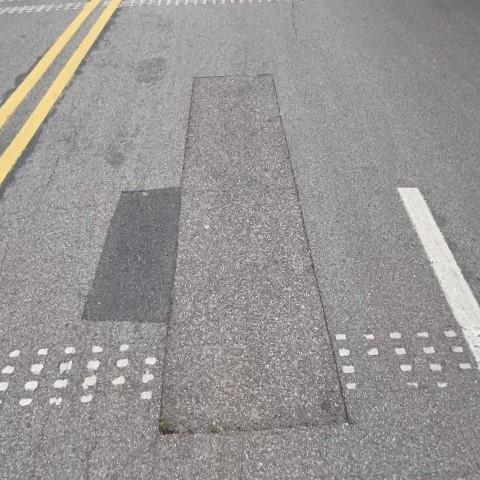Sambungan: (81, 76, 347, 435)
